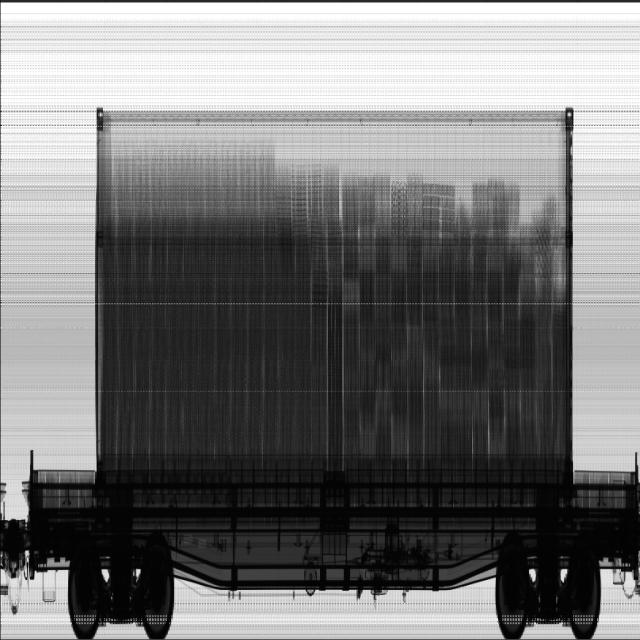tableware: (391, 172, 559, 276), (275, 162, 340, 246)
